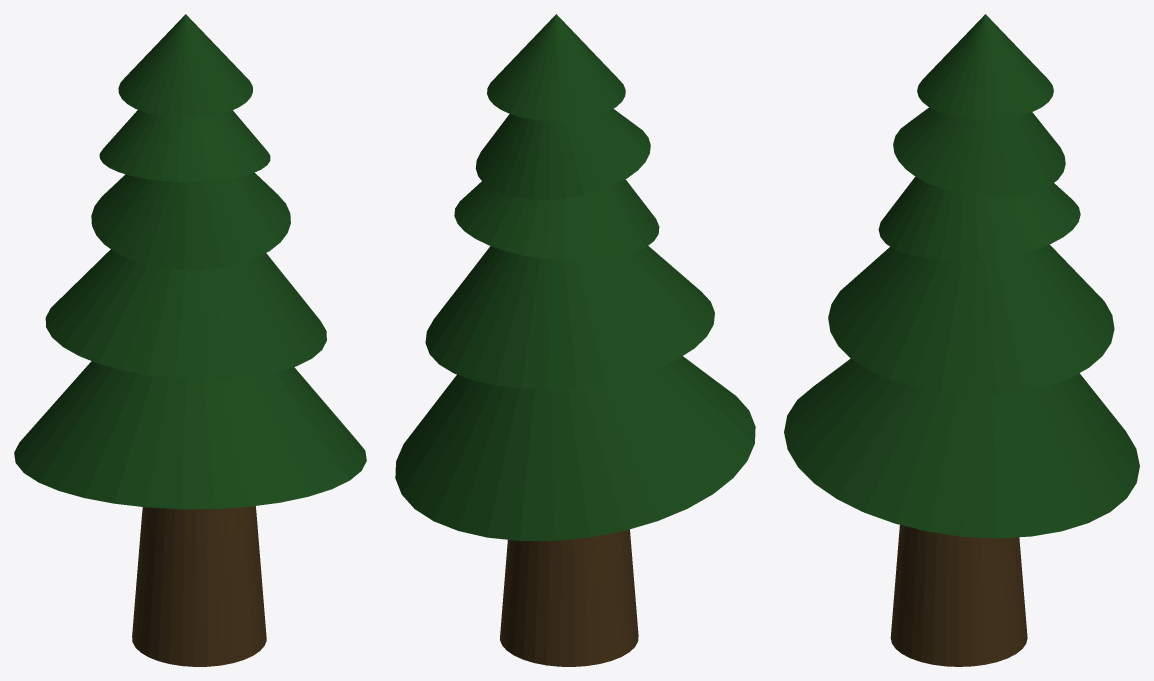
The model's file is Tree_1.fbx.
3 renders of one model, left to right at view 1: azimuth 30°, elevation 25°; view 2: azimuth 150°, elevation 25°; view 3: azimuth 270°, elevation 25°, orthographic. The views are drawn at different scales.
Visible parts, largest first — view 1: Cone.004, Cone.003, Cylinder, Cone.002, Cone.001, Cone; view 2: Cone.004, Cone.003, Cylinder, Cone.001, Cone.002, Cone; view 3: Cone.004, Cone.003, Cylinder, Cone.002, Cone.001, Cone.
Part boxes in pixels (<box>): Cone.004: <box>14,361,366,509</box>; Cone.003: <box>45,249,326,379</box>; Cylinder: <box>132,506,266,666</box>; Cone.002: <box>91,172,290,269</box>; Cone.001: <box>99,110,270,182</box>; Cone: <box>118,14,252,118</box>; Cone.004: <box>395,356,755,540</box>; Cone.003: <box>425,246,714,388</box>; Cylinder: <box>500,529,638,666</box>; Cone.001: <box>475,109,650,199</box>; Cone.002: <box>454,179,659,260</box>; Cone: <box>487,14,625,121</box>; Cone.004: <box>784,358,1139,538</box>; Cone.003: <box>828,244,1114,394</box>; Cylinder: <box>890,525,1027,666</box>; Cone.002: <box>878,177,1080,261</box>; Cone.001: <box>893,107,1065,197</box>; Cone: <box>917,14,1053,119</box>.
Bounding box in the file's own units: 522 × 1006 × 520.
